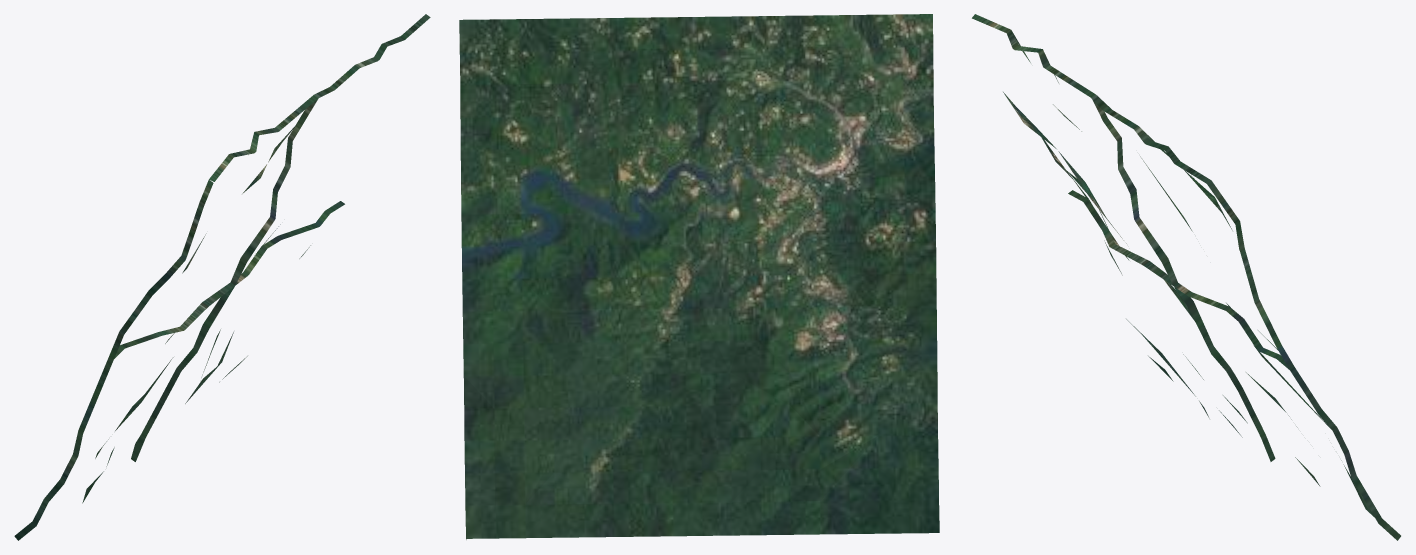
3 renders of one model, left to right at view 1: azimuth 30°, elevation 25°; view 2: azimuth 150°, elevation 25°; view 3: azimuth 270°, elevation 25°, orthographic. The views are drawn at different scales.
Size of the model in its own units: 9969 by 9022 by 8425.
Materials: 1 (1 with a texture image).
